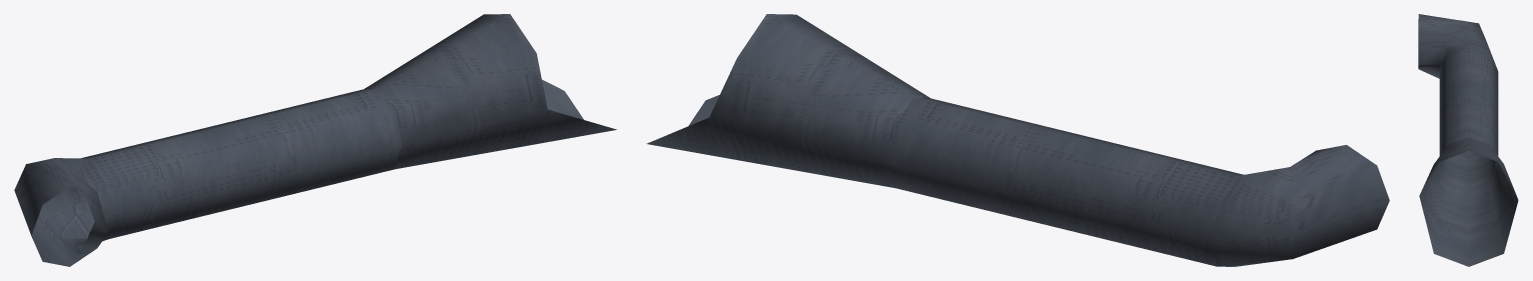
Rendered from Enemy_Ship_1_Piece_3.fbx.
3 views of the same model, side by side, from view 1: azimuth 30°, elevation 25°; view 2: azimuth 150°, elevation 25°; view 3: azimuth 270°, elevation 25° (orthographic). The views are drawn at different scales.
Parts seen in each view (by area): view 1: enemy_ship1_part4; view 2: enemy_ship1_part4; view 3: enemy_ship1_part4.
Part boxes in pixels (box(x1,y1,x2,y2)): enemy_ship1_part4: box(14, 14, 616, 266); enemy_ship1_part4: box(646, 14, 1389, 266); enemy_ship1_part4: box(1418, 14, 1518, 266).
Bounding box in the file's own units: 55.86 × 12.14 × 12.25.
